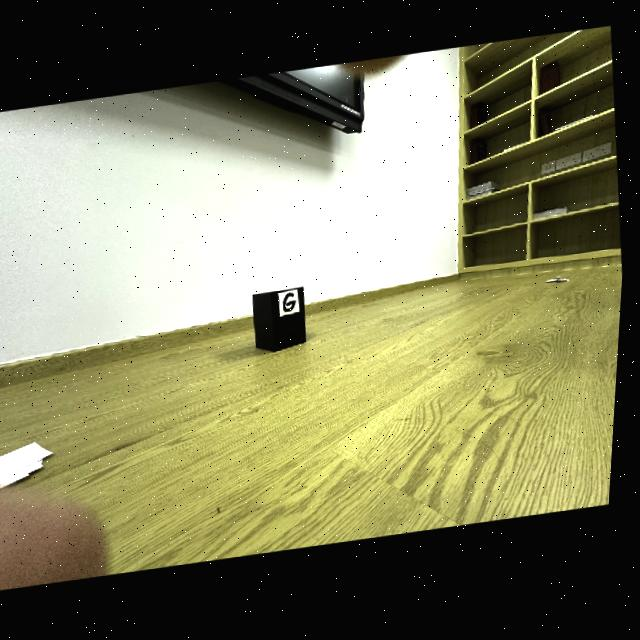G: (286, 293, 301, 315)
